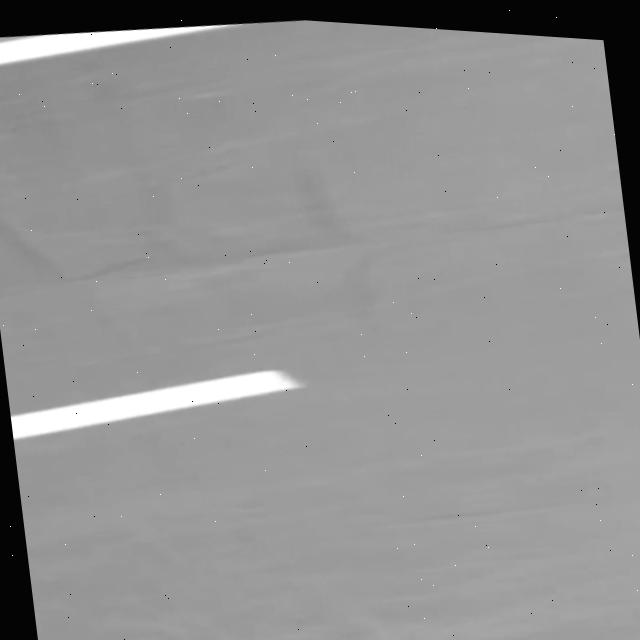center: (9, 370, 302, 439)
left: (0, 24, 237, 63)
